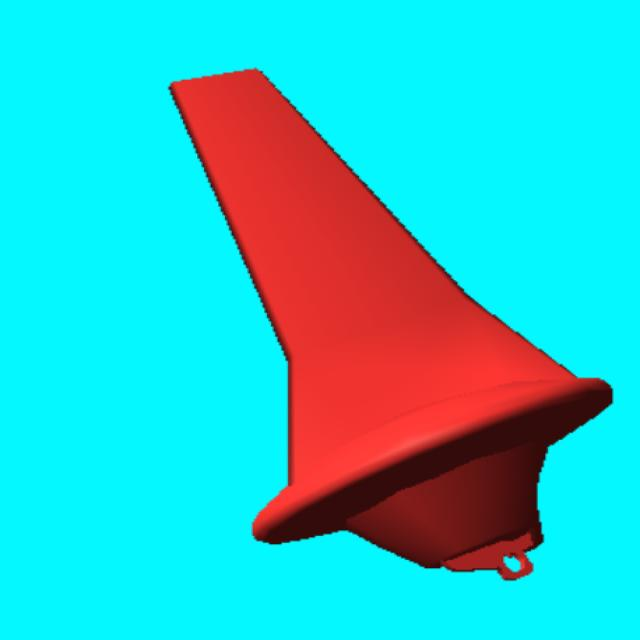RedBuoy: (171, 70, 611, 578)
